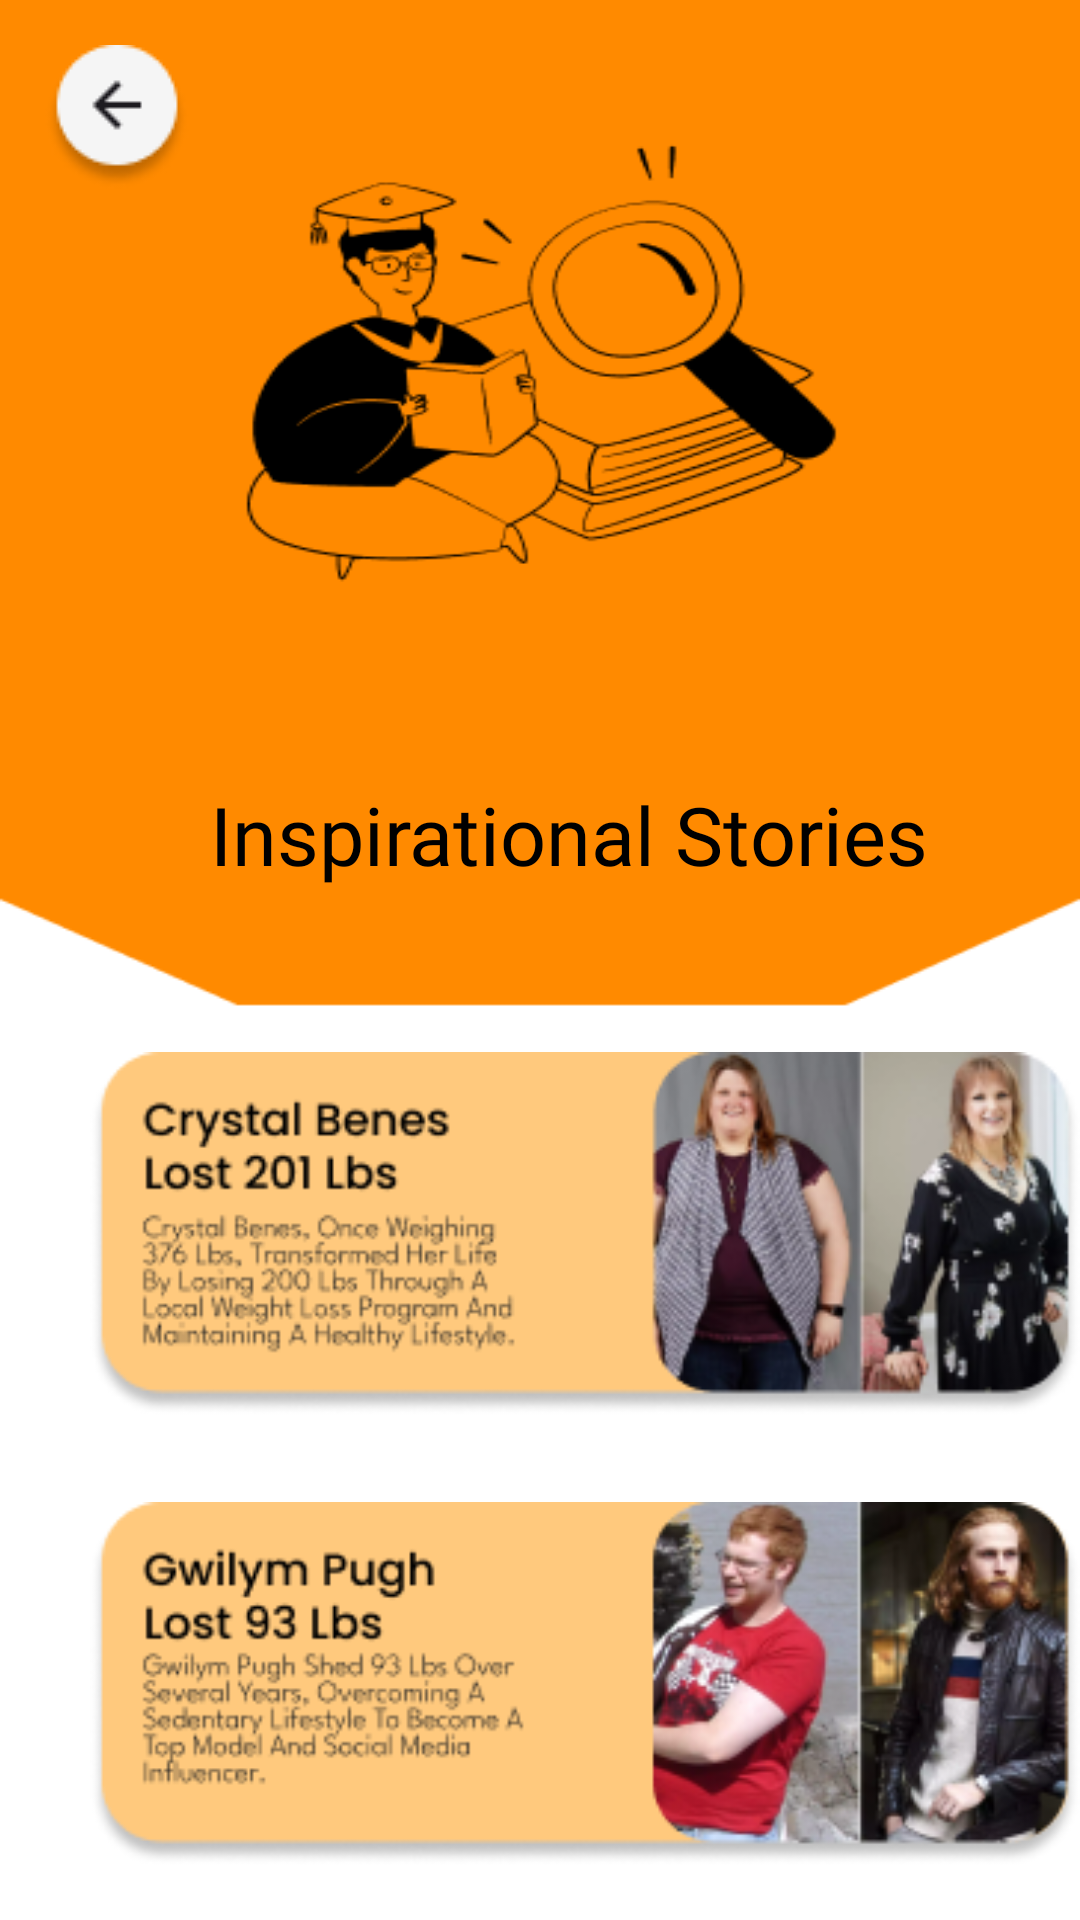

Icons on this 1080*1920 Android screen, each with the point to tap as (x=x, y=y):
back: (x=117, y=111)
